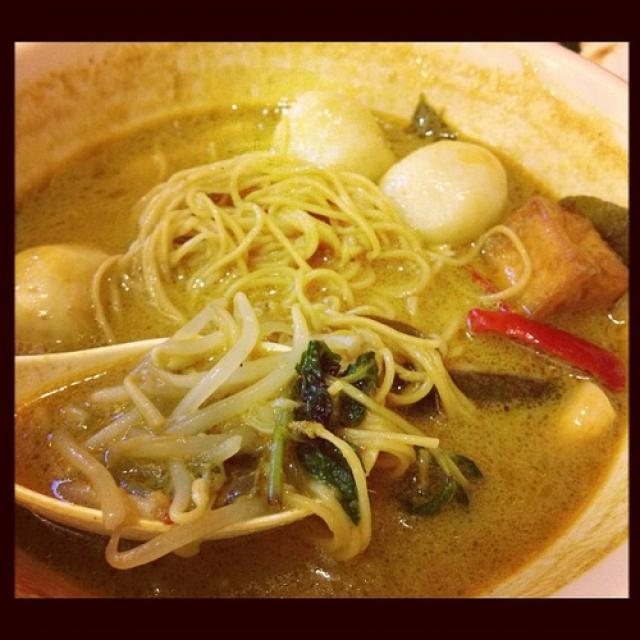面条主食: (19, 50, 616, 599)
